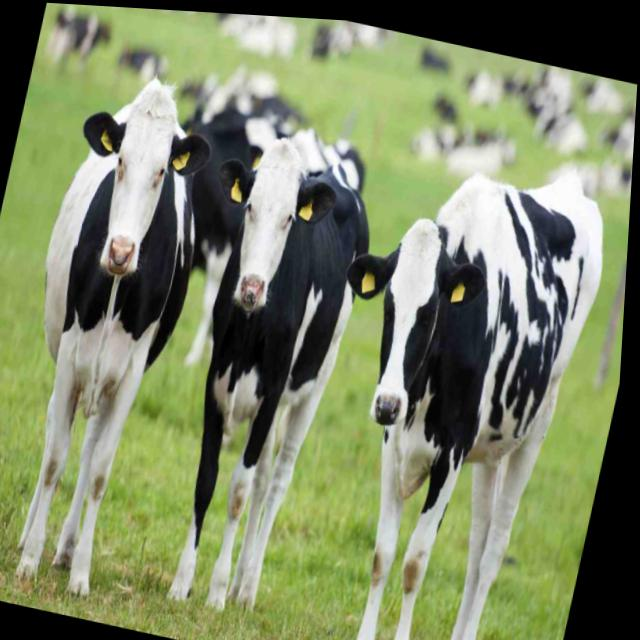cowFace: (318, 195, 503, 440), (54, 59, 230, 293), (191, 118, 351, 329)
